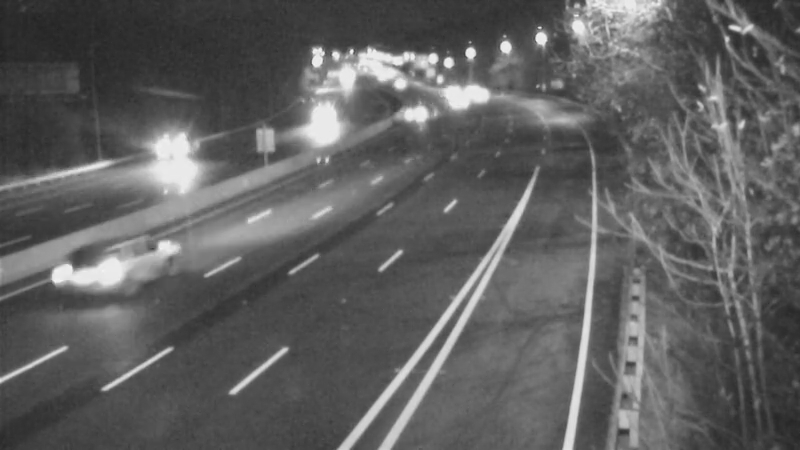vehicle: (50, 229, 130, 309), (132, 117, 212, 197), (377, 59, 427, 109), (430, 74, 480, 124), (389, 89, 439, 139), (297, 94, 347, 144)
